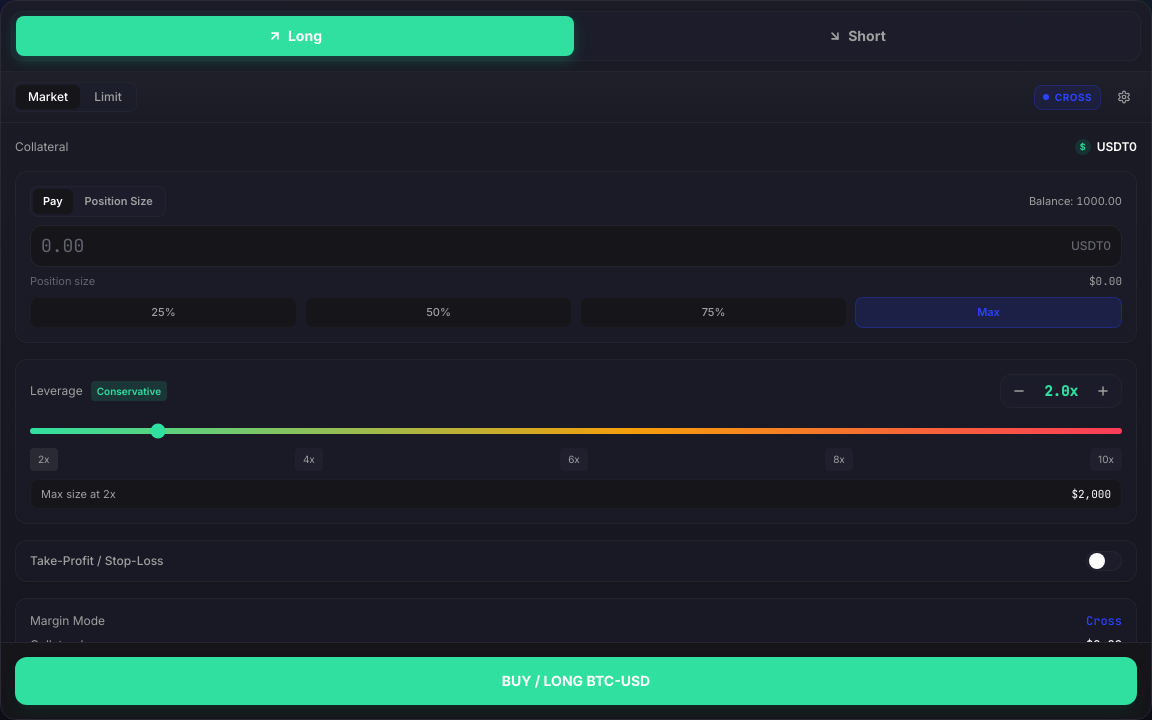
Test case: TradingForm › updates leverage via slider and input buttons
The image size is (1152, 720).
Click the button named "Increase leverage": click(1103, 390) [1085,374,1121,406]
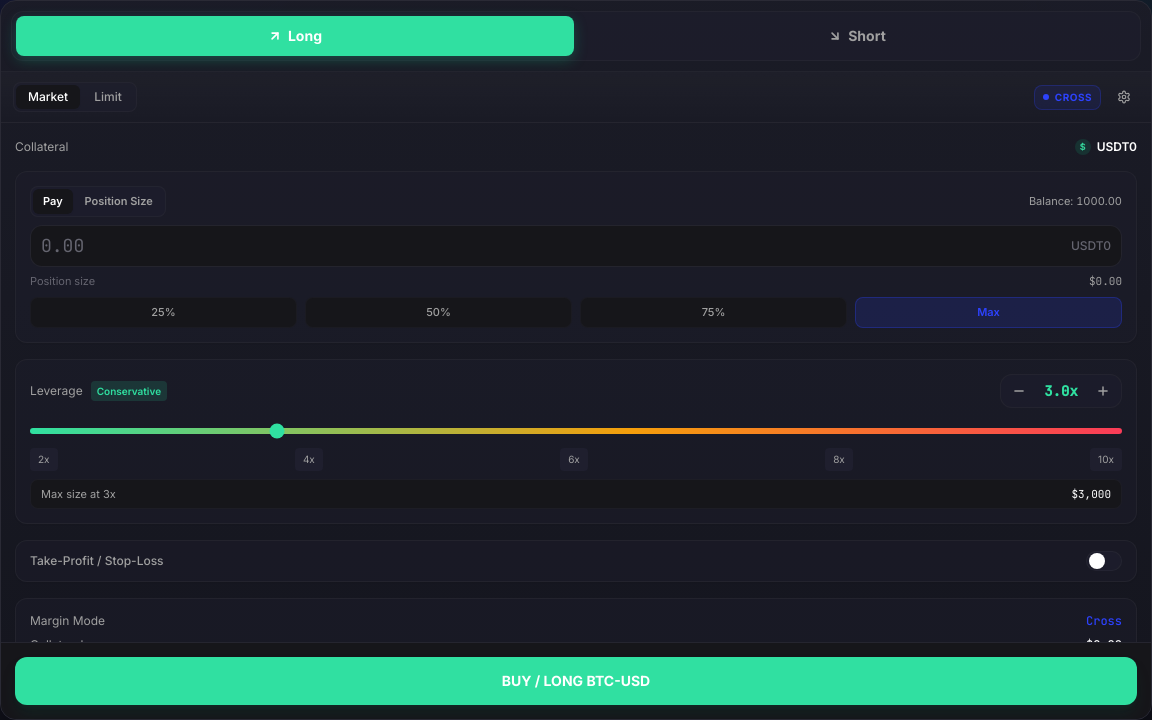
Check: the text "3.0x" is shown, box [1044,382,1078,400]
Set the slider to "5": (516, 430) [30,428,1122,434]
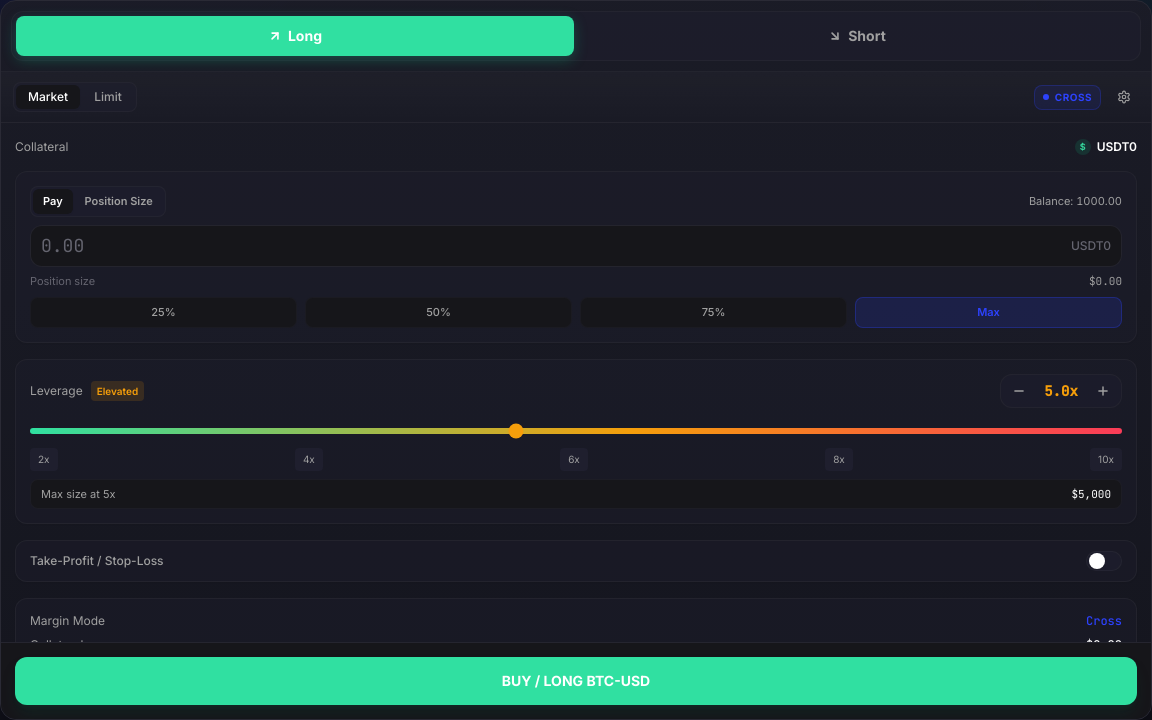
Check: the text "5.0x" is shown, box [1044,382,1078,400]
Click the button "10x": click(1106, 459) [1090,448,1122,470]
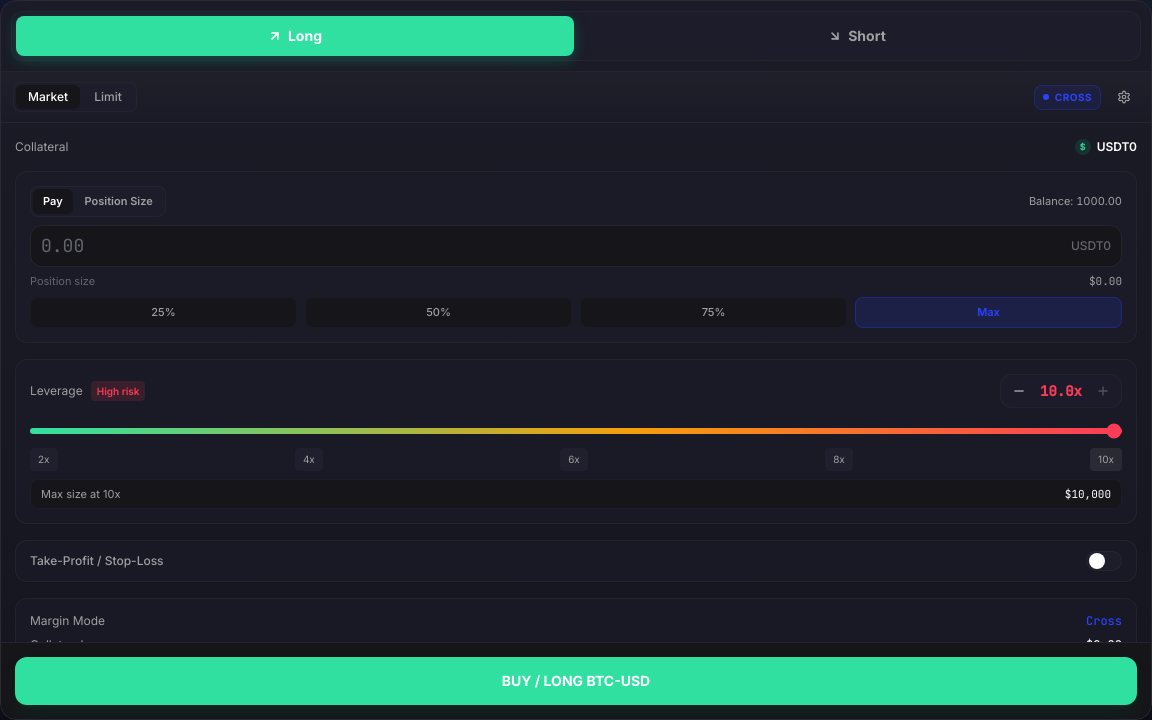
Check: the text "10.0x" is shown, box [1040,382,1082,400]
